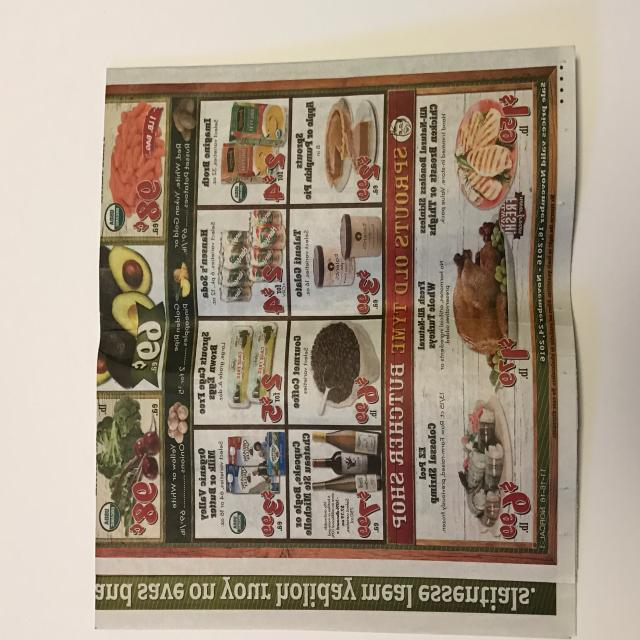paper: (0, 24, 640, 633)
